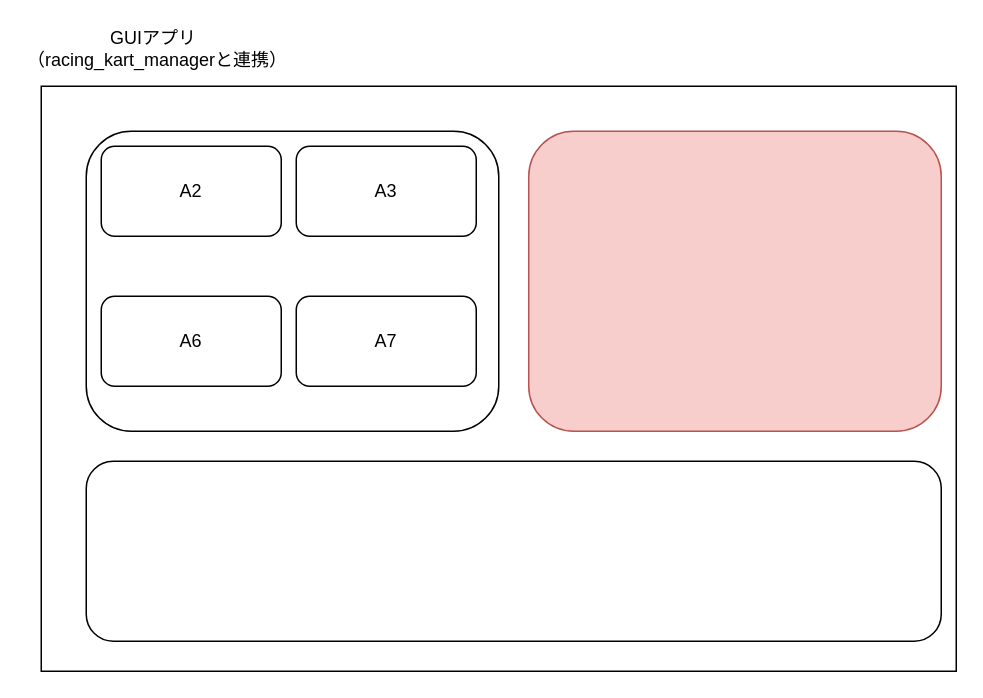
The diagram is 983 pixels wide and 698 high, and some of its shapes have lost their labels. Each missing label, with the box of its shape:
メッセージ表示エリア: (85, 460, 941, 641)
一斉発進準備完了: (527, 130, 941, 431)
